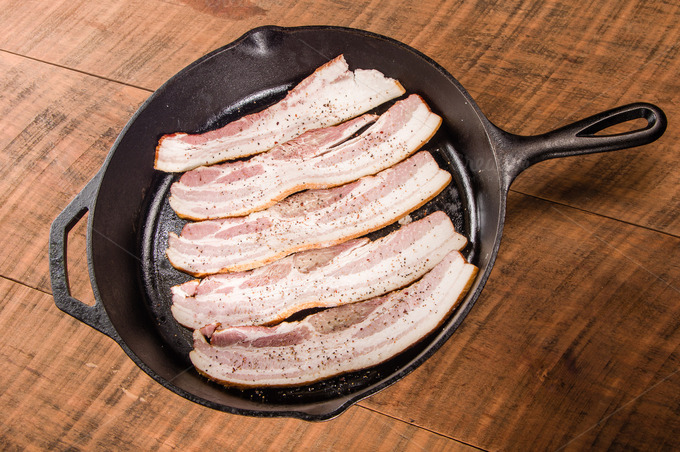bacon: (142, 68, 442, 393)
